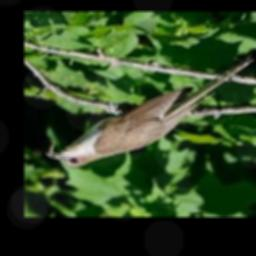Cuckoo: (47, 55, 254, 168)
